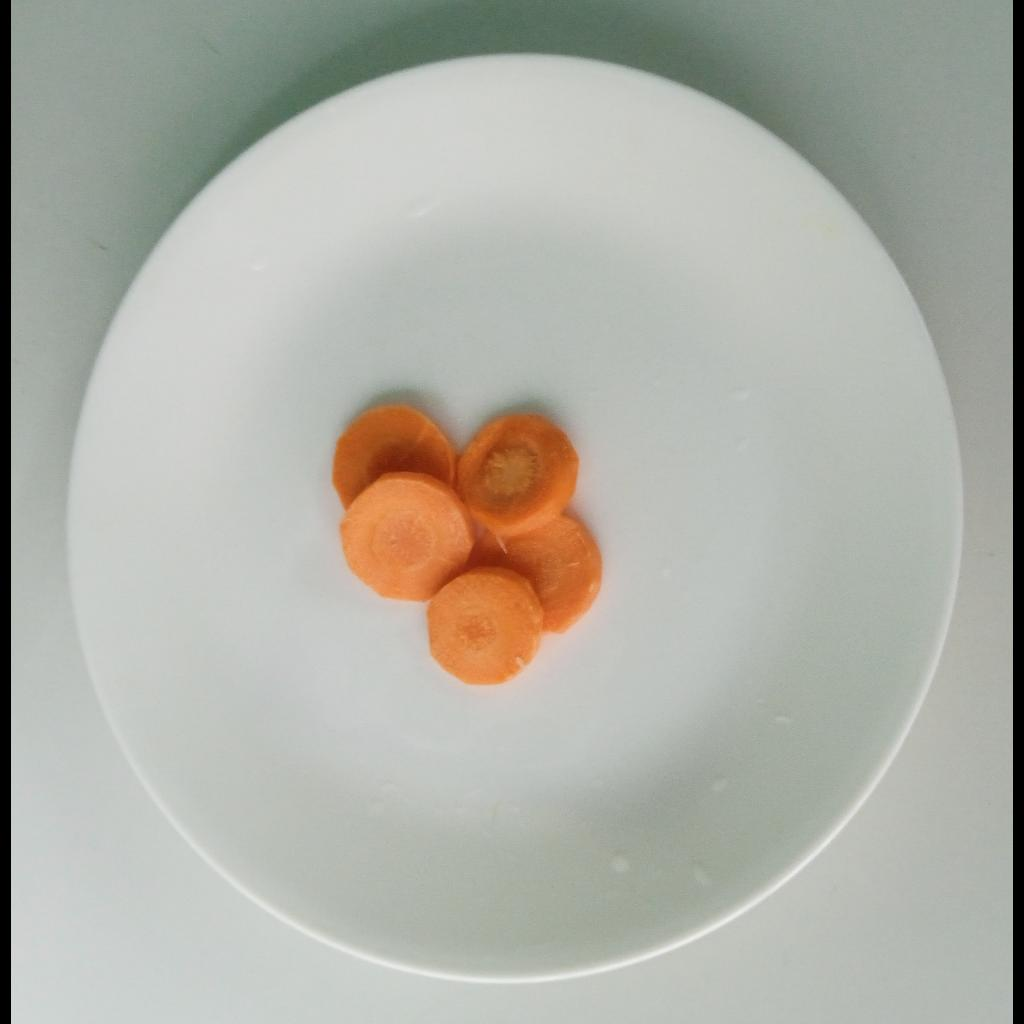carrot: (329, 404, 603, 689)
